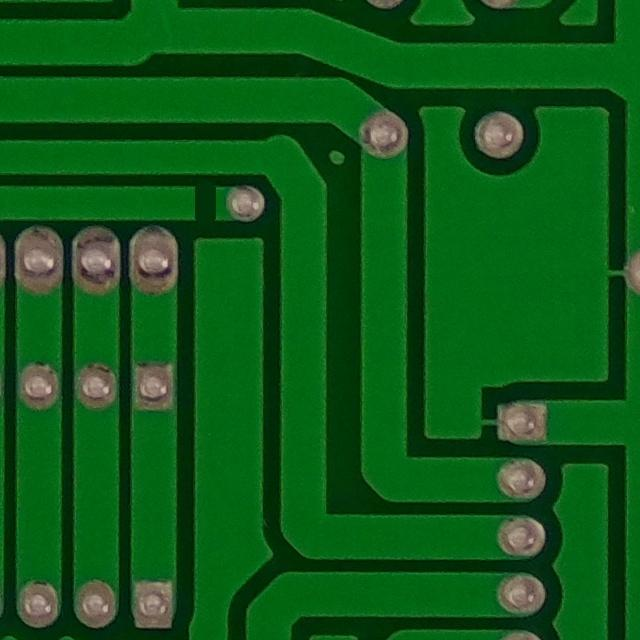open_circuit: (171, 175, 233, 230)
